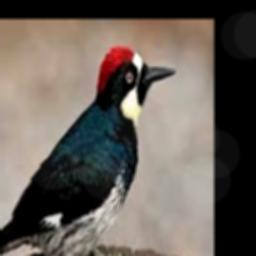Woodpecker: (0, 45, 176, 256)
